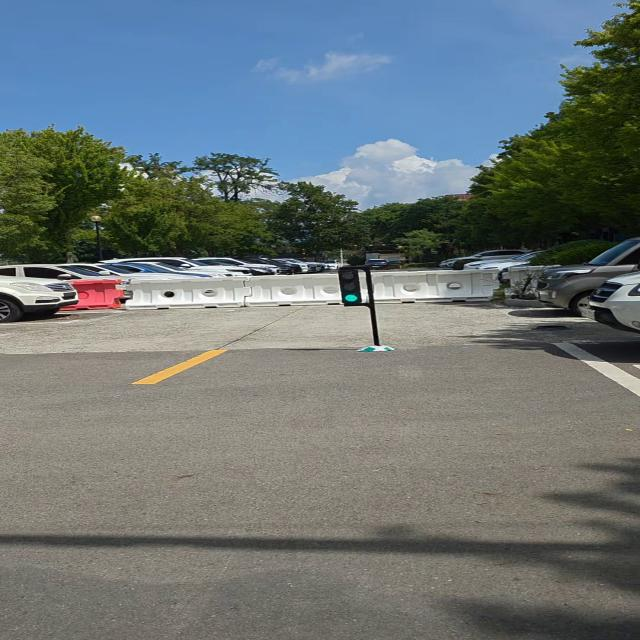green: (333, 268, 369, 305)
